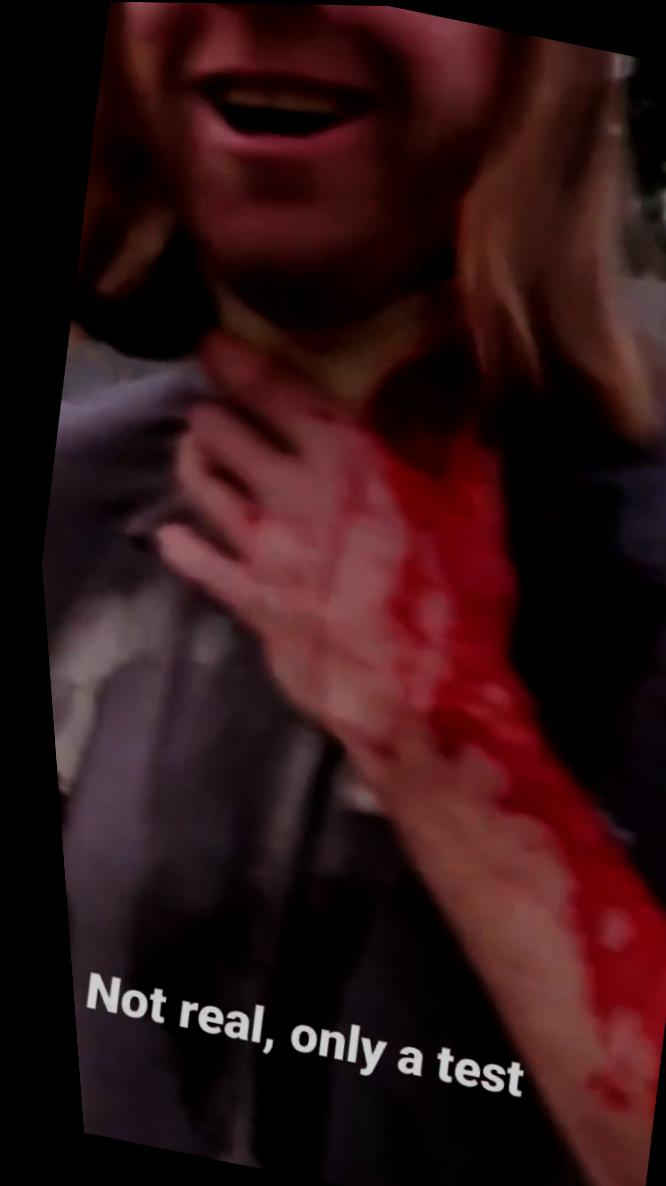Fire: (364, 325, 662, 1126)
